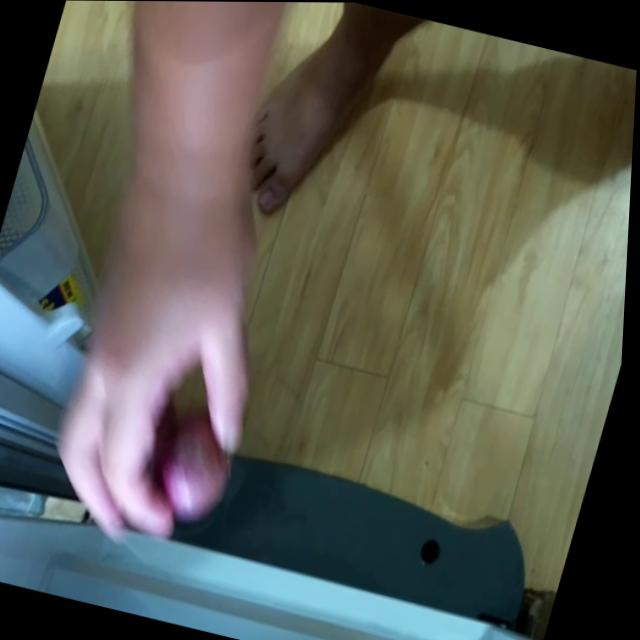onion: (131, 386, 261, 552)
